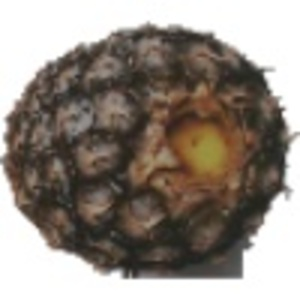abacaxi: (1, 18, 288, 268)
